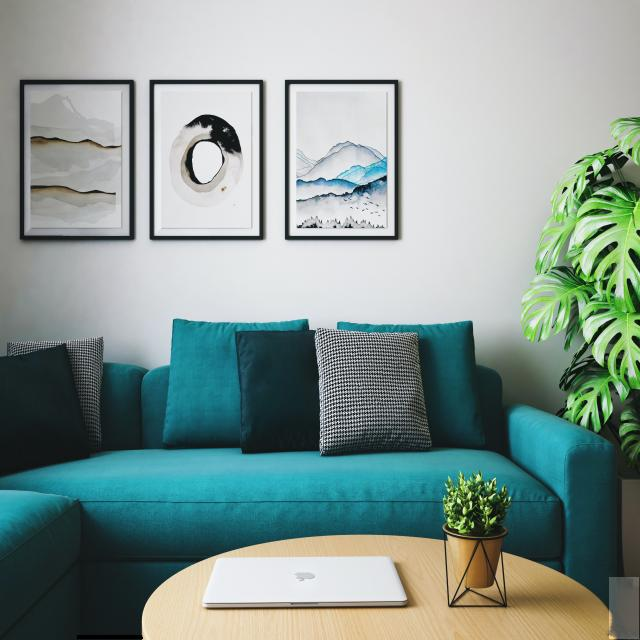floor: (609, 578, 640, 639), (77, 635, 143, 640)
